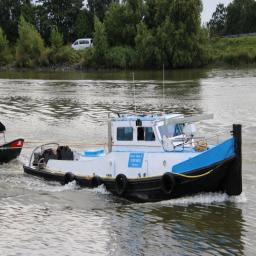tugboat: (22, 107, 246, 215)
